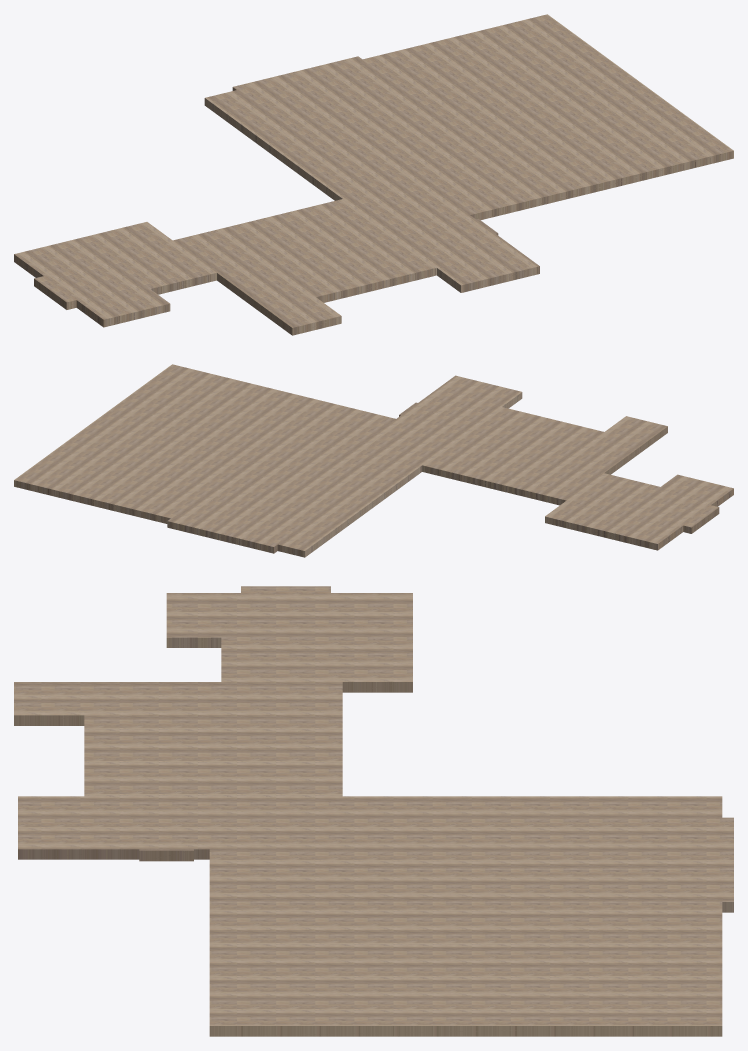
The model's file is 1860_kitchen_Floor_RivergroveValorOak.gltf.
3 renders of one model, top to bottom at view 1: azimuth 30°, elevation 25°; view 2: azimuth 150°, elevation 25°; view 3: azimuth 270°, elevation 25°, orthographic. The views are drawn at different scales.
Parts seen in each view (by area): view 1: Floor_Rivergrove Valor Oak; view 2: Floor_Rivergrove Valor Oak; view 3: Floor_Rivergrove Valor Oak.
Part boxes in pixels (x1,y1,x2,y2): Floor_Rivergrove Valor Oak: (14, 14, 733, 335); Floor_Rivergrove Valor Oak: (14, 364, 733, 557); Floor_Rivergrove Valor Oak: (14, 586, 733, 1036).
Bounding box in the file's own units: 26.6 × 0.3 × 18.4.
1 material, 1 textured.
